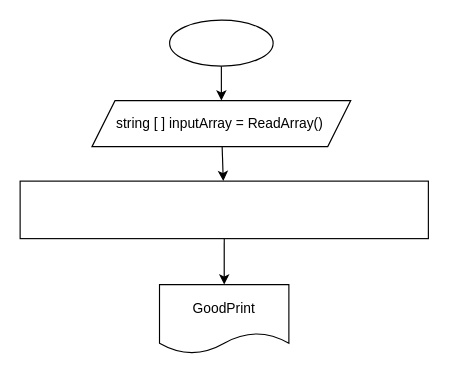
Some shapes in this 449 by 374 pixel diagram are drawn without their labels. Each missing label, with the box of its shape:
Start: (168, 19, 273, 66)
string [ ] result = FilterArrayByLenght(inputArray, 3): (19, 180, 428, 239)
